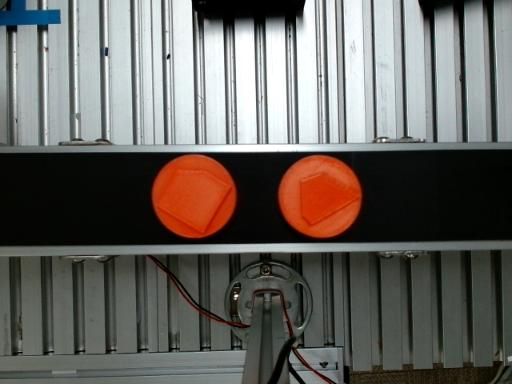Not_Square: (153, 169, 232, 235), (300, 172, 363, 225)
Orange_Waper: (152, 154, 237, 238), (278, 155, 362, 238)
